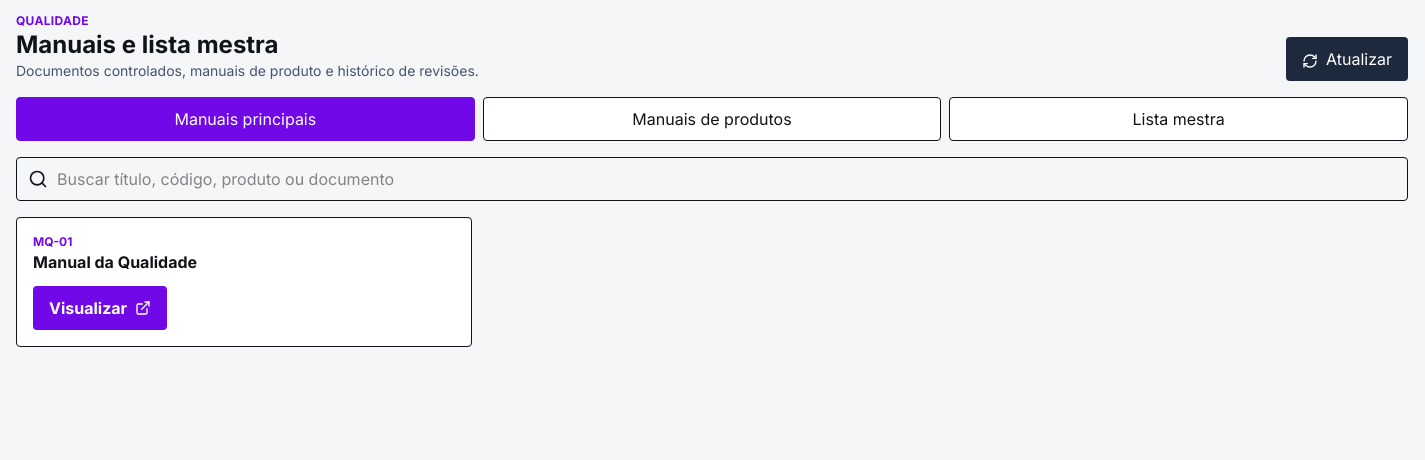
Test: QualityManualsScreen › loads and filters all three real categories
The width and height of the screenshot is (1425, 460).
Expected: the heading "Manual da Qualidade" is shown, [33,252,197,272]
Click the button "Manuais de produtos". click: (712, 119)
box: [483,97,941,141]
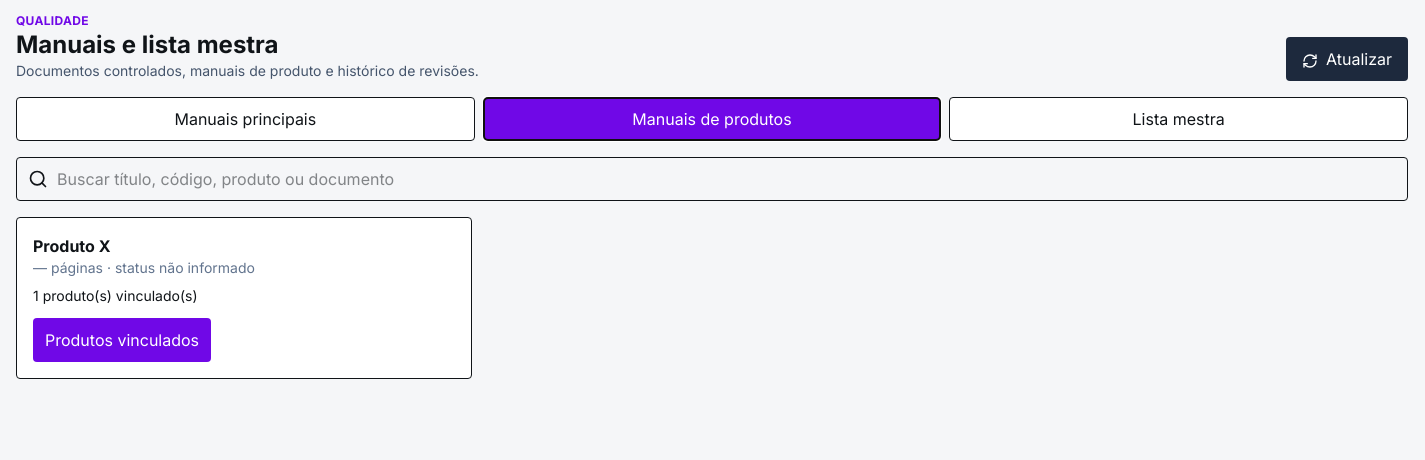
Result: the heading "Produto X" is shown at [33,236,110,256]
Click the button "Lista mestra". click: (1179, 119)
box: [949,97,1408,141]
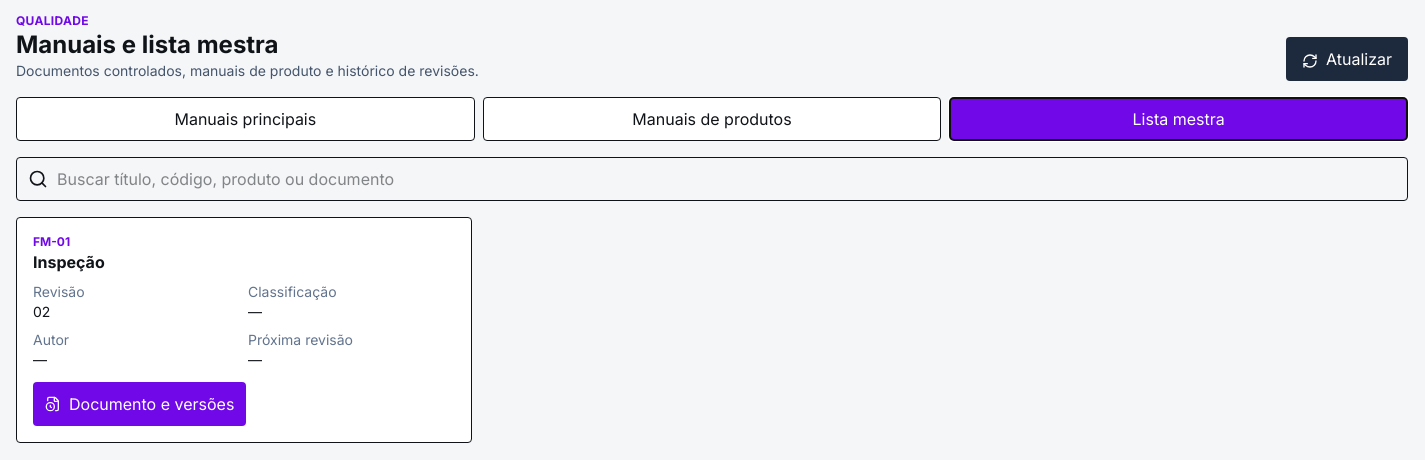
Result: the heading "Inspeção" is shown at [33,252,105,272]
Type "inexistente" into the field with placeholder "Buscar título, código, produto ou documento". click: (712, 179)
box: [16,157,1408,201]
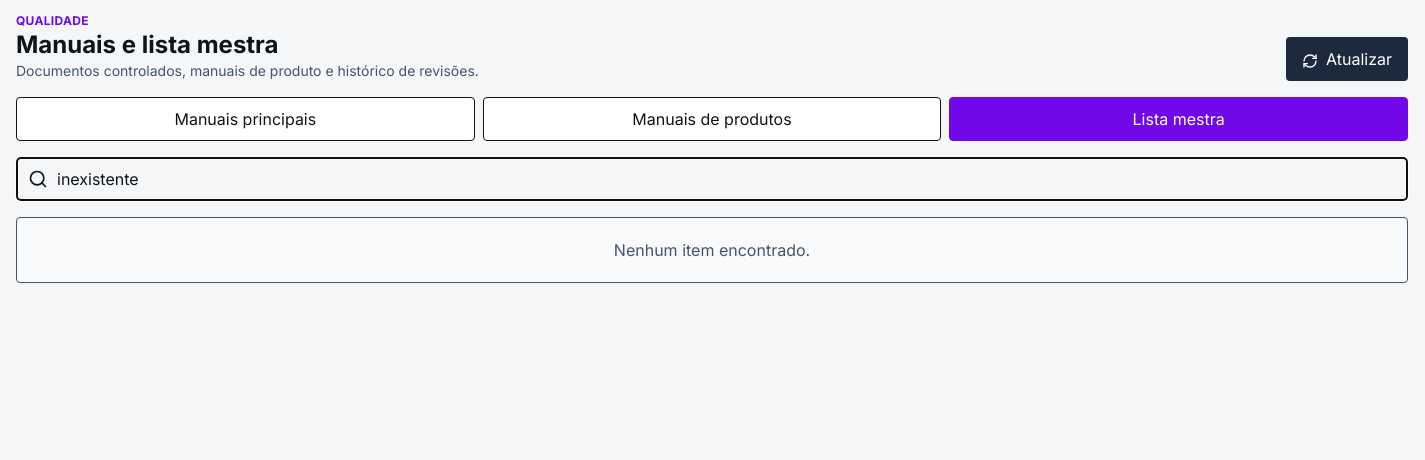
Result: the text "Nenhum item encontrado." is shown at [16,217,1408,283]
